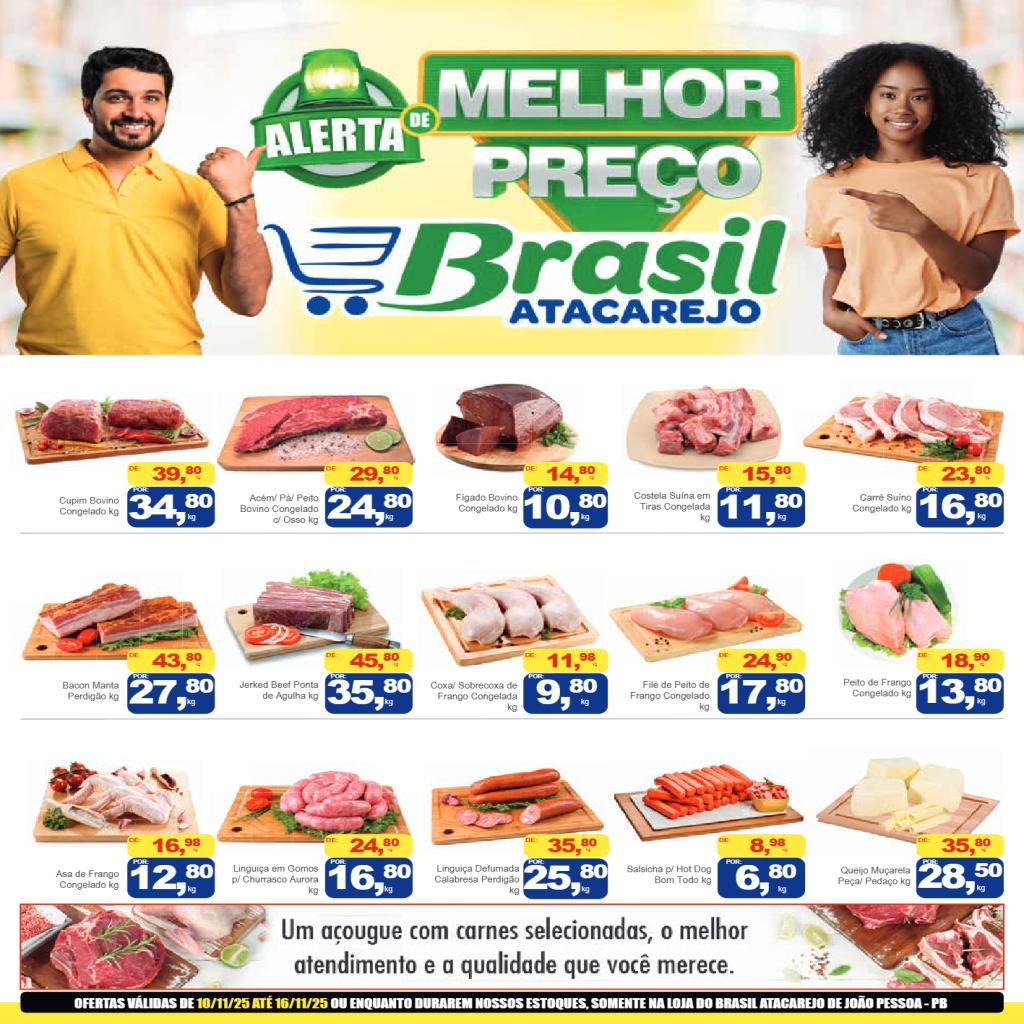price: (124, 678, 216, 714), (323, 678, 413, 714), (714, 678, 806, 713), (126, 492, 214, 528), (324, 492, 414, 527), (523, 492, 609, 528), (918, 492, 1003, 528), (917, 677, 1002, 713), (716, 493, 804, 527), (916, 863, 1004, 897), (523, 678, 608, 713), (717, 864, 803, 898), (327, 864, 411, 898), (127, 864, 213, 897), (523, 864, 606, 898)
product_text: (427, 861, 520, 898), (236, 490, 323, 528), (429, 678, 520, 714), (229, 862, 322, 897), (632, 488, 712, 527), (628, 677, 711, 714), (625, 861, 713, 891), (237, 675, 321, 704), (832, 862, 912, 891), (838, 674, 912, 702), (453, 488, 521, 517), (53, 868, 122, 895), (55, 492, 122, 518), (56, 678, 122, 704), (850, 490, 913, 516)
